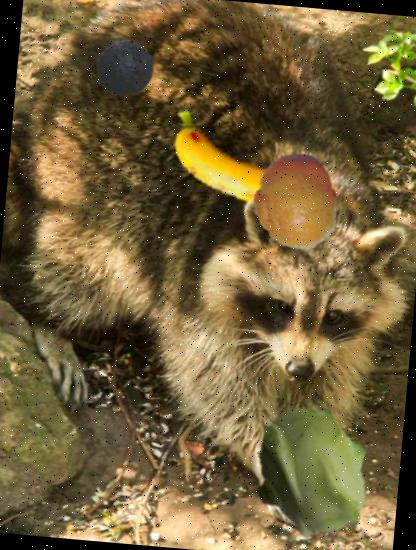Avocado: (89, 36, 157, 104)
Banana: (160, 86, 311, 237)
Kohlrabi: (238, 400, 384, 546)
Mandarine: (242, 150, 348, 256)
